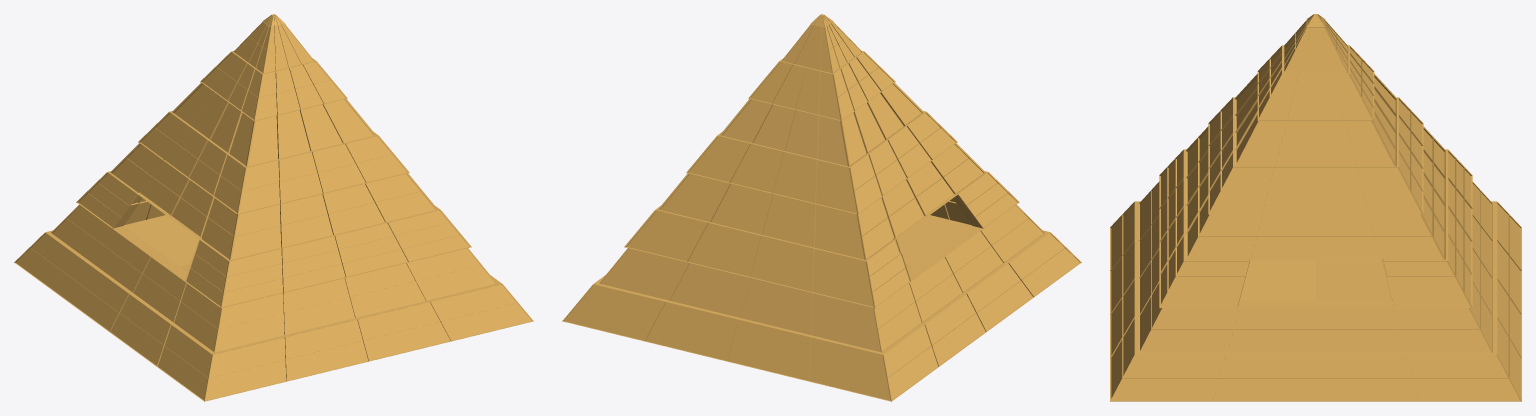
File: piramada.fbx
3 renders of one model, left to right at view 1: azimuth 30°, elevation 25°; view 2: azimuth 150°, elevation 25°; view 3: azimuth 270°, elevation 25°, orthographic. The views are drawn at different scales.
Parts seen in each view (by area): view 1: Cube; view 2: Cube; view 3: Cube.
Boxes of the visible parts, x1,y1,x2,y2 form: Cube: [14, 14, 533, 401]; Cube: [562, 14, 1081, 401]; Cube: [1110, 14, 1521, 401].
Bounding box in the file's own units: 27101 × 21792 × 27101.
